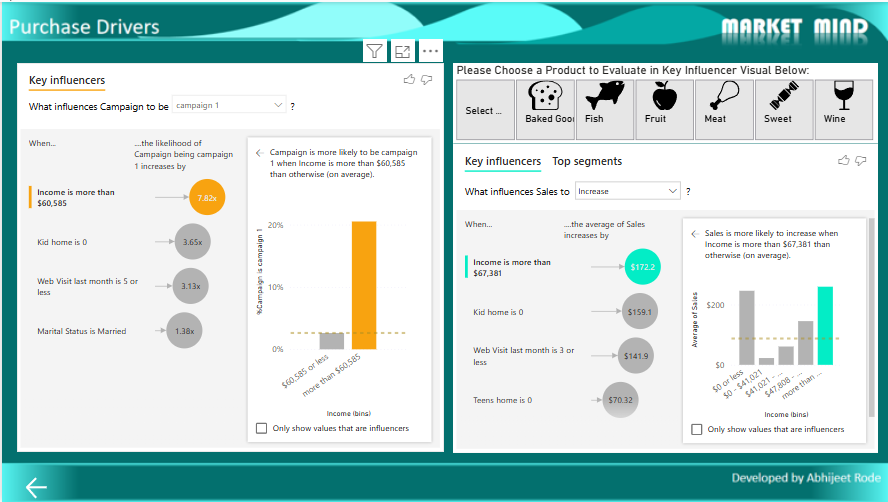

The dashboard page shown, as its layout file describes it:
{"tool":"powerbi","page":{"name":"Purchase Drivers ","canvas":[1280,720],"ordinal":3},"visuals":[{"type":"keyDriversVisual","fields":{"Target":["Campaign.Campaign"],"ExplainBy":["marketmindz_research_data.Age","marketmindz_research_data. Income ","marketmindz_research_data.Country","marketmindz_research_data.Education","marketmindz_research_data.Marital_Status","marketmindz_research_data.Teenhome","marketmindz_research_data.Kidhome","marketmindz_research_data.Web_Visit_last_month"]},"box":[22,88,614.3,559.3],"z":0},{"type":"keyDriversVisual","fields":{"ExplainBy":["marketmindz_research_data.Age","marketmindz_research_data. Income ","marketmindz_research_data.Country","marketmindz_research_data.Education","marketmindz_research_data.Marital_Status","marketmindz_research_data.Teenhome","marketmindz_research_data.Kidhome","marketmindz_research_data.Web_Visit_last_month"],"Target":["Products.Sales"]},"box":[650,204,612,444],"z":1000},{"type":"advancedSlicerVisual","title":"Please Choose a Product to Evaluate in Key Influencer Visual Below:","fields":{"Values":["Products.Product"]},"box":[650,88,612,116],"z":2000},{"type":"actionButton","box":[0,680.3,100.8,40.3],"z":3000}]}

Visuals, with their boxes in screenshot pixels (x1, y1, x2, y2), scaled from the page's 1280x720 canvas onto the 888x502 screenshot:
keyDriversVisual - Campaign.Campaign x marketmindz_research_data.Age: box(15, 61, 441, 451)
keyDriversVisual - marketmindz_research_data.Age x marketmindz_research_data. Income : box(451, 142, 876, 452)
"Please Choose a Product to Evaluate in Key Influencer Visual Below:" advancedSlicerVisual: box(451, 61, 876, 142)
actionButton: box(0, 474, 70, 501)
